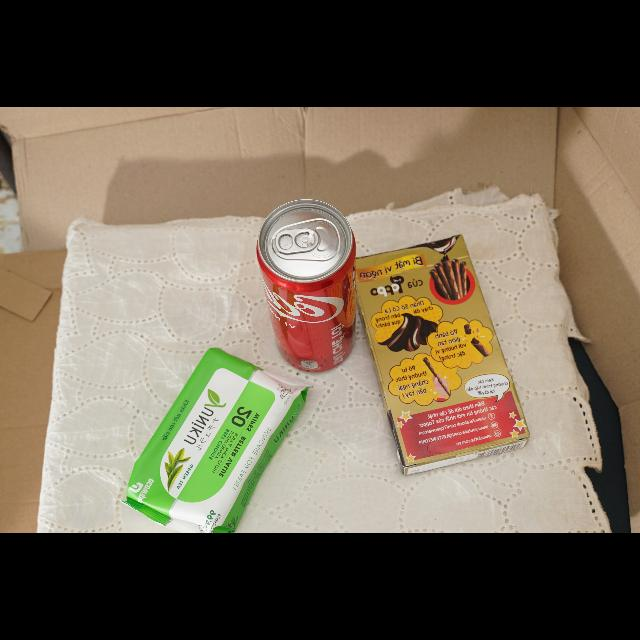banh_toppo_socola: (356, 236, 530, 474)
coca_cola: (256, 201, 356, 373)
khan_giay: (123, 348, 308, 533)
